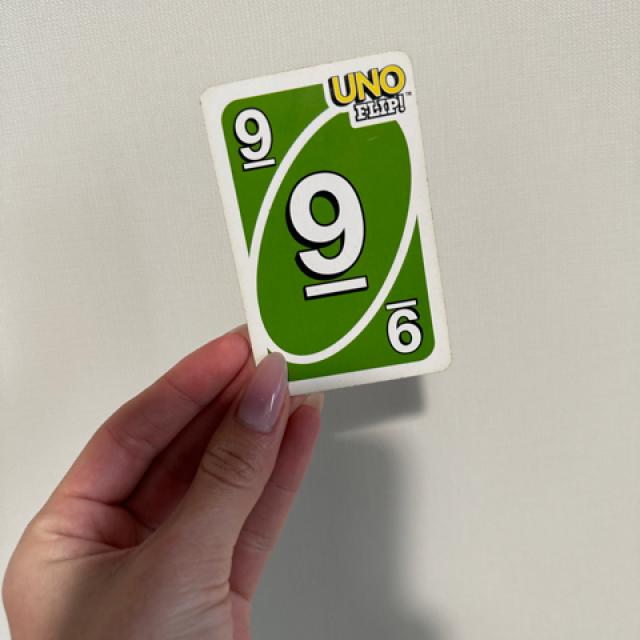lgreen-9: (221, 93, 299, 175)
